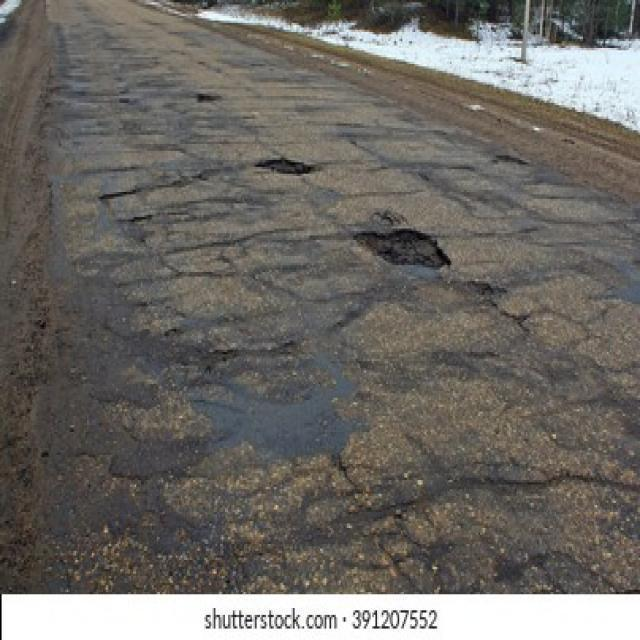Buraco: (349, 227, 453, 270), (252, 154, 320, 178), (492, 152, 532, 169), (193, 91, 225, 105)
